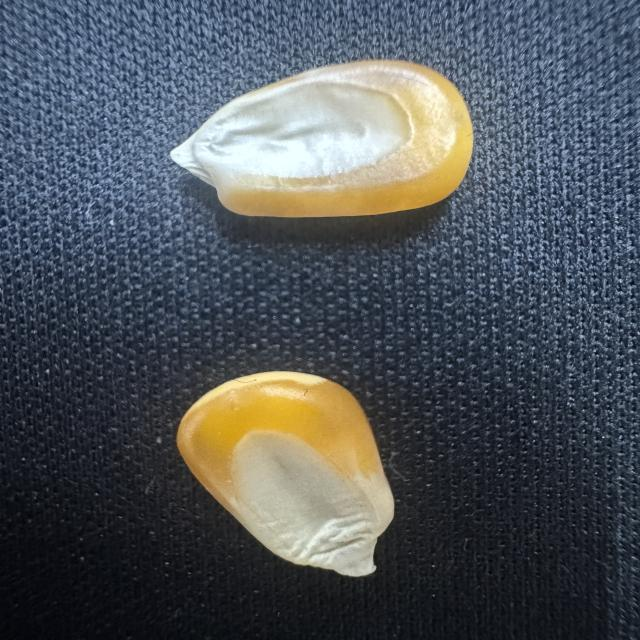Good-Seed: (166, 54, 480, 222), (168, 365, 402, 582)
